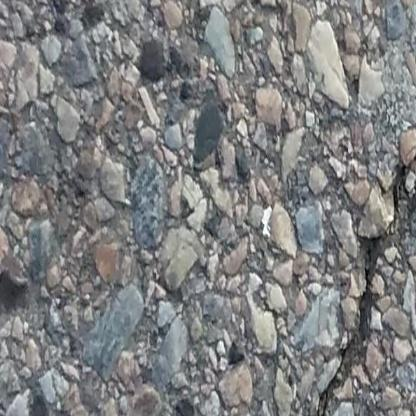Cracks: (301, 44, 416, 416)
